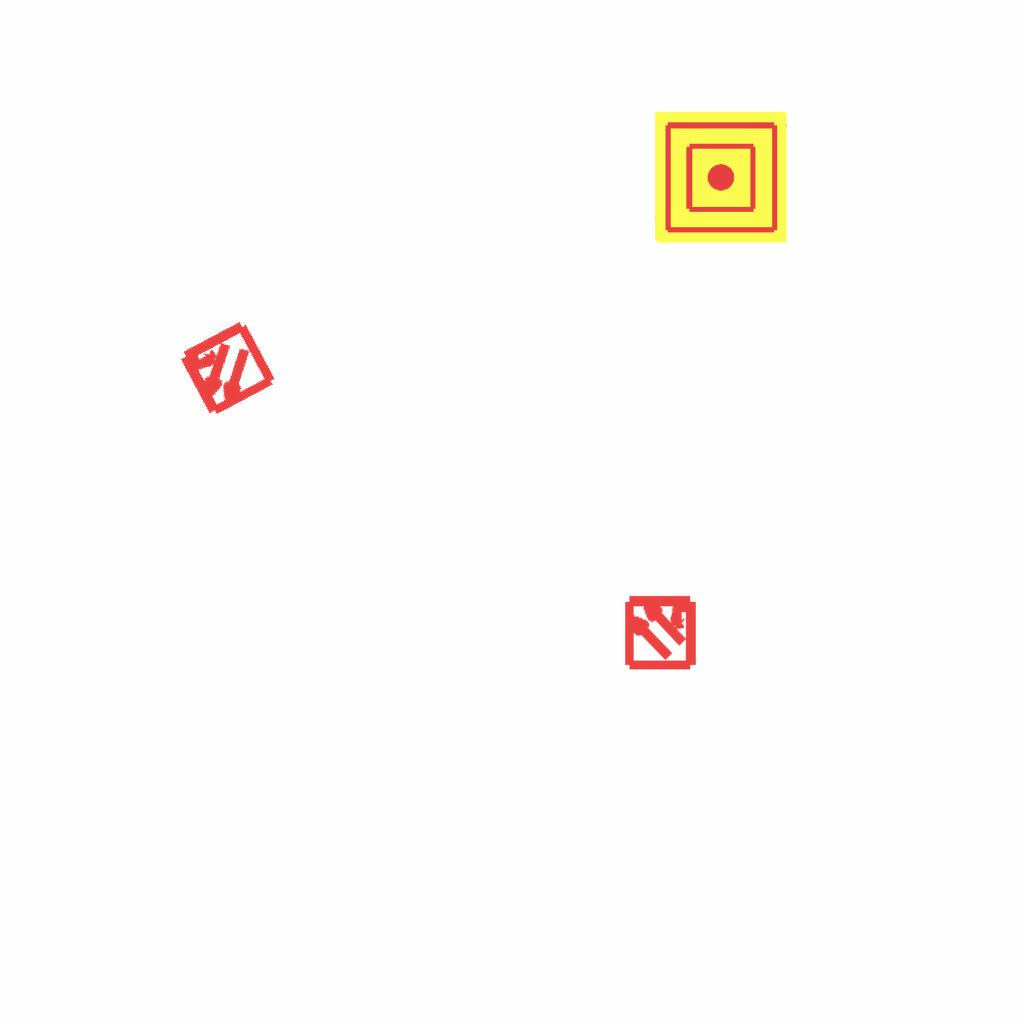NAM-Nichtautomatischer_Melder: (655, 111, 787, 243)
OT_Multisensormelder_(Kombination_RMO_WMD): (149, 293, 302, 446), (604, 574, 717, 687)
